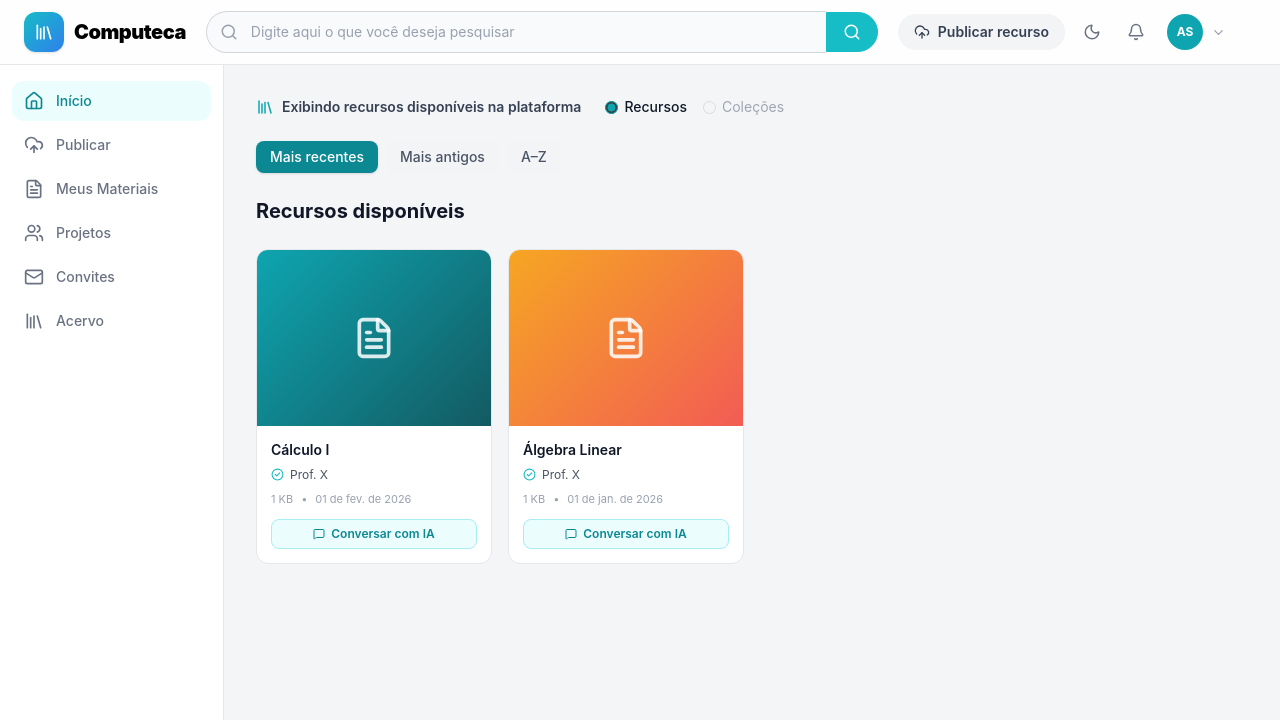
Scenario: HomePage › envia a busca do cabeçalho ao servidor e exibe o resultado filtrado
Expected: the text "Álgebra Linear" is shown, [523, 440, 622, 458]
Type "Cálculo" into the search field named "Pesquisar materiais". click: (516, 32)
box: [206, 11, 826, 53]
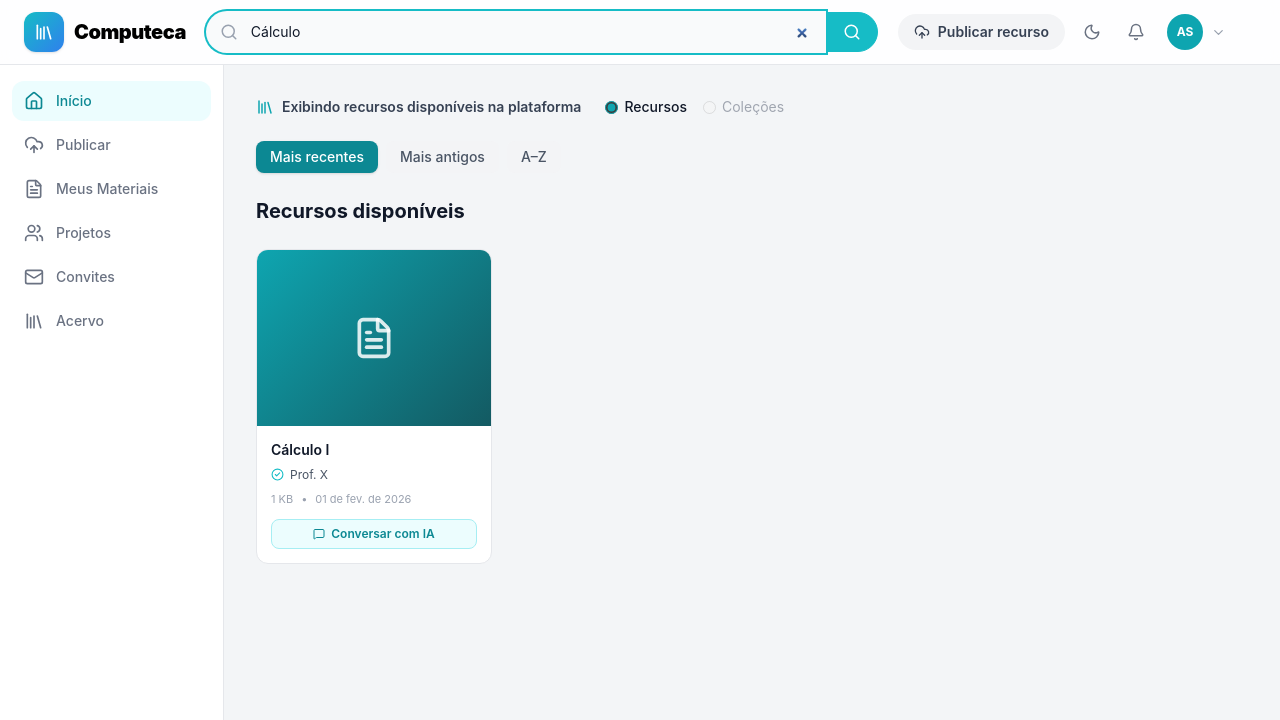
Expected: the text "Cálculo I" is shown, [271, 440, 329, 458]
Result: the button "Álgebra Linear" is gone
